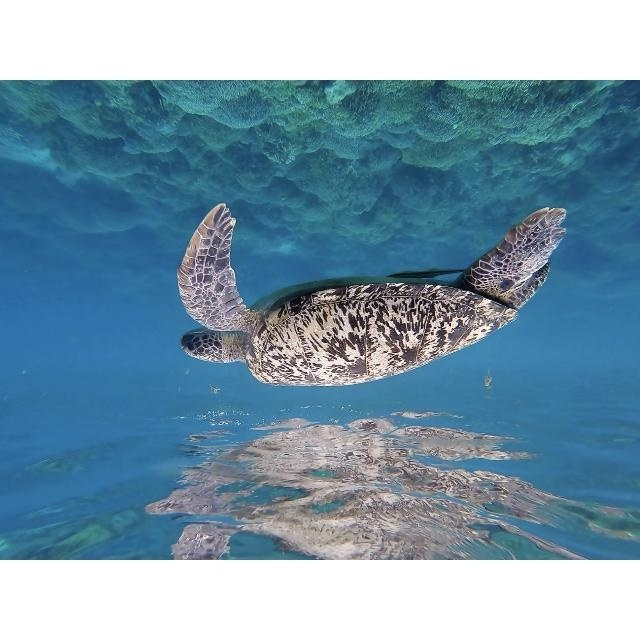turtle: (174, 204, 568, 388)
